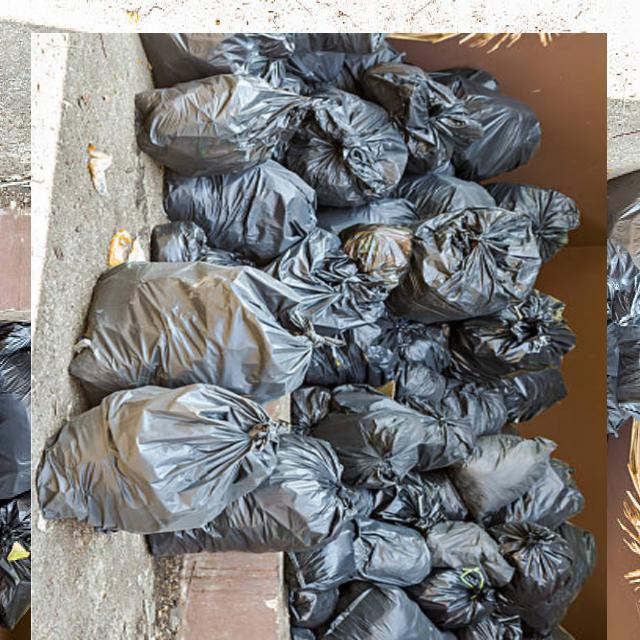Trashbag: (80, 265, 308, 397), (61, 394, 268, 532), (143, 73, 310, 167), (416, 214, 544, 326), (173, 163, 312, 249), (302, 92, 406, 206), (453, 68, 540, 190), (258, 428, 343, 552), (416, 524, 509, 622), (337, 395, 422, 490), (461, 318, 571, 386), (407, 374, 488, 466), (466, 437, 559, 508), (502, 524, 574, 614), (337, 570, 429, 640), (316, 316, 402, 388), (528, 178, 581, 270), (367, 515, 430, 579)
